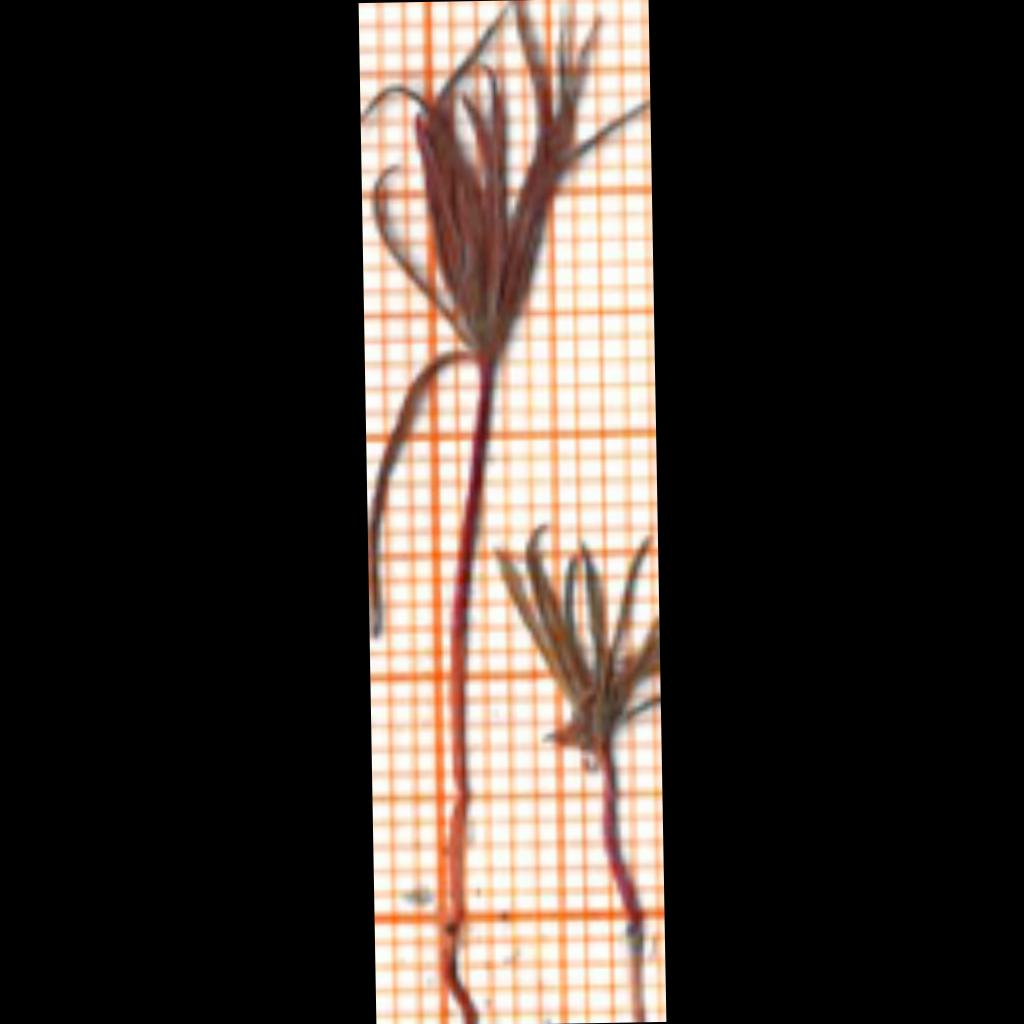flowerPinus: (369, 0, 597, 617), (496, 530, 659, 758)
stemPinus: (450, 364, 493, 927), (603, 746, 643, 937)
